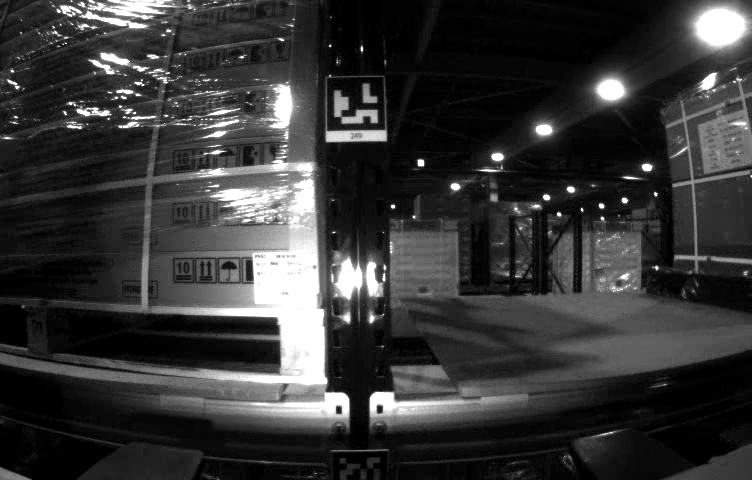True Barcode: (254, 252, 311, 304)
